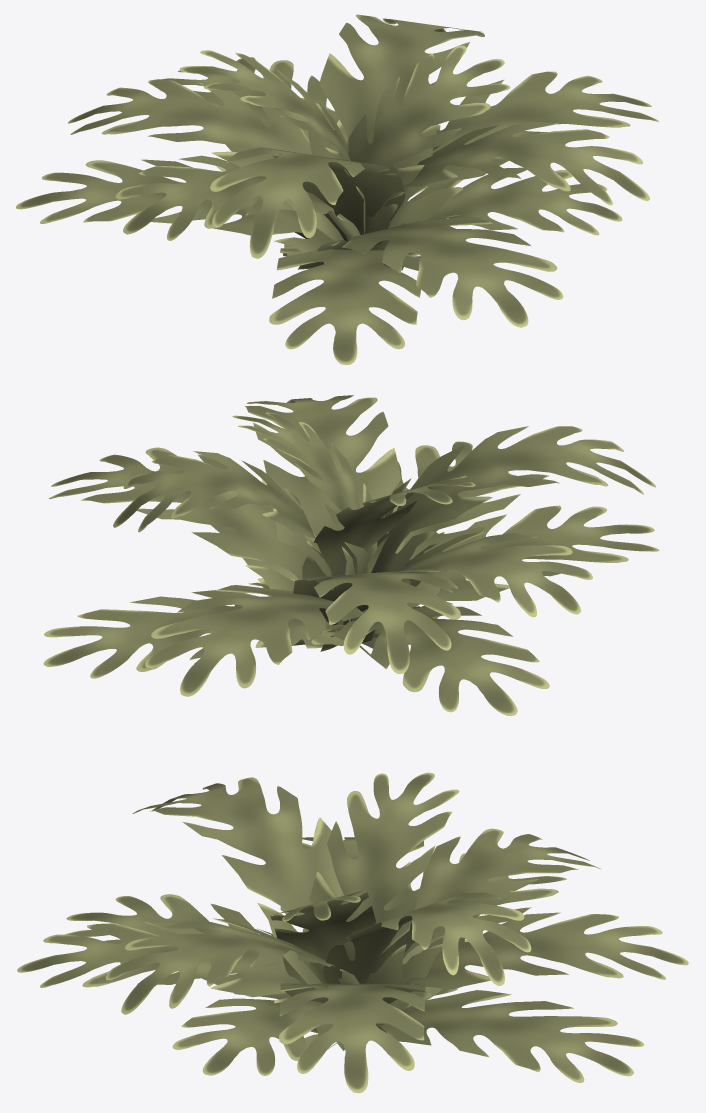
Rendered from Plant_Pointy.fbx.
The picture shows the model from 3 angles, top to bottom: view 1: azimuth 30°, elevation 25°; view 2: azimuth 150°, elevation 25°; view 3: azimuth 270°, elevation 25°; orthographic projection.
Parts seen in each view (by area): view 1: snake4, snake9, snake11, snake16, snake8, snake7, snake10, snake6, snake14, snake13, snake5, snake15 (+1 smaller); view 2: snake9, snake3, snake10, snake6, snake14, snake7, snake5, snake8, snake12, snake11, snake15, snake16 (+2 smaller); view 3: snake9, snake15, snake12, snake6, snake3, snake8, snake7, snake10, snake4, snake13, snake16, snake11 (+2 smaller).
Part boxes in pixels (bbox=[...]): snake4: bbox=[298, 215, 563, 327]; snake9: bbox=[210, 146, 409, 258]; snake11: bbox=[269, 248, 420, 364]; snake16: bbox=[347, 45, 510, 264]; snake8: bbox=[308, 14, 484, 218]; snake7: bbox=[68, 79, 343, 263]; snake10: bbox=[365, 121, 649, 233]; snake6: bbox=[384, 71, 658, 270]; snake14: bbox=[16, 159, 335, 252]; snake13: bbox=[370, 167, 622, 250]; snake5: bbox=[115, 155, 383, 264]; snake15: bbox=[179, 50, 365, 234]; snake9: bbox=[362, 426, 655, 642]; snake3: bbox=[145, 582, 410, 696]; snake10: bbox=[244, 395, 405, 576]; snake6: bbox=[49, 447, 332, 648]; snake14: bbox=[291, 602, 549, 715]; snake7: bbox=[293, 568, 460, 673]; snake5: bbox=[320, 531, 592, 651]; snake8: bbox=[113, 451, 350, 621]; snake12: bbox=[43, 590, 370, 678]; snake11: bbox=[361, 505, 659, 648]; snake15: bbox=[302, 475, 475, 590]; snake16: bbox=[232, 412, 377, 632]; snake9: bbox=[132, 777, 341, 988]; snake15: bbox=[302, 772, 459, 988]; snake12: bbox=[328, 988, 643, 1082]; snake6: bbox=[279, 983, 425, 1093]; snake3: bbox=[367, 912, 688, 1042]; snake8: bbox=[310, 892, 531, 1032]; snake7: bbox=[383, 828, 600, 987]; snake10: bbox=[105, 918, 387, 1033]; snake4: bbox=[17, 922, 344, 1050]; snake13: bbox=[172, 993, 389, 1075]; snake16: bbox=[269, 890, 376, 983]; snake11: bbox=[65, 894, 318, 1047].
Bounding box in the file's own units: 30.71 × 10.44 × 31.54.
